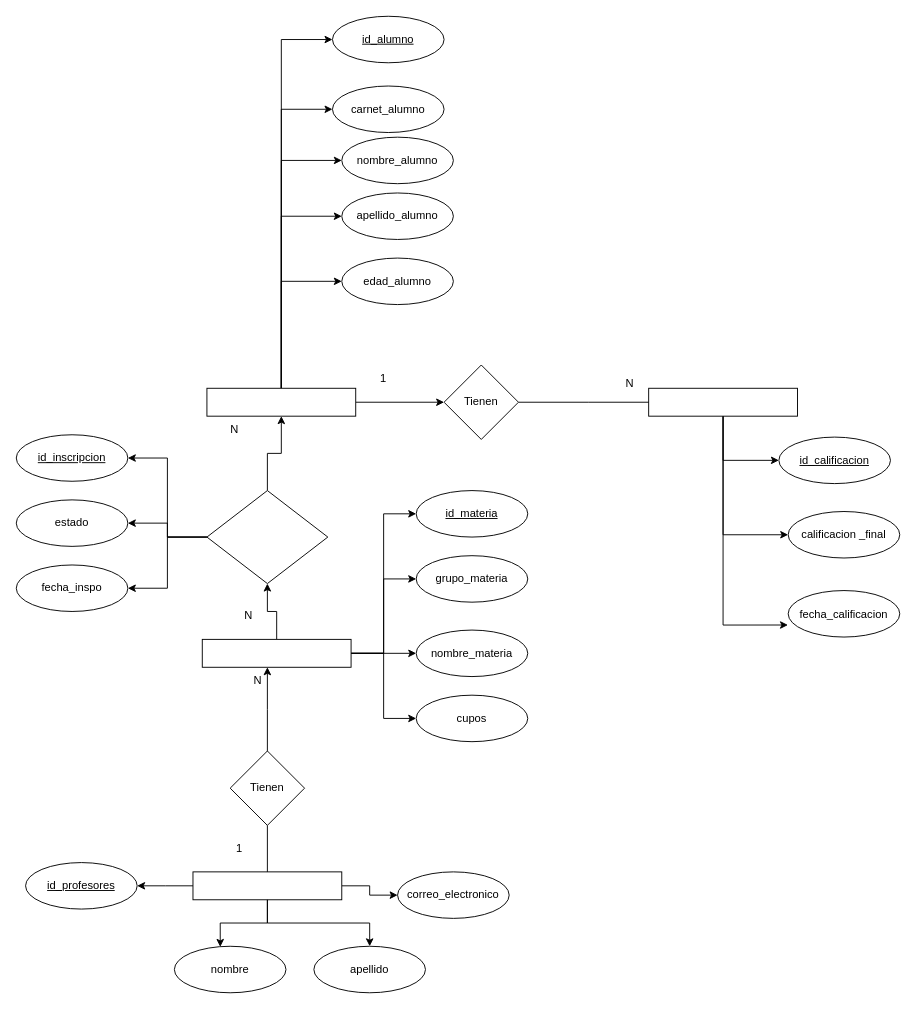
This 916x1009 diagram has some shape labels left out. Here are the shapes that lost their labels. From the top down, the centre of each, then its label:
(281,401): alumnos
(722,401): calificaciones
(267,537): Se inscriben en
(276,652): materias
(267,885): Profesores
